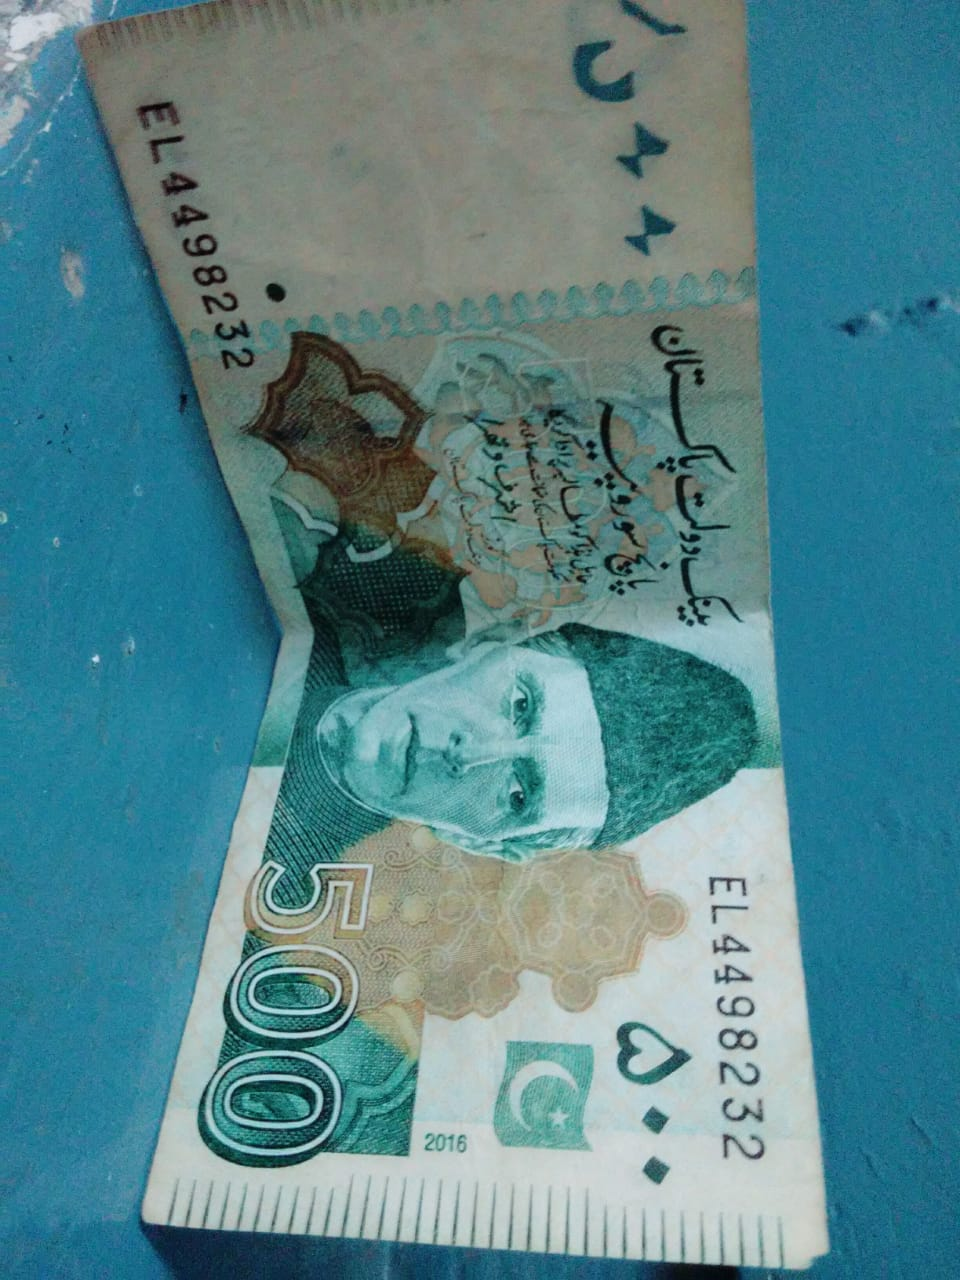500 rupee: (69, 14, 850, 1255)
